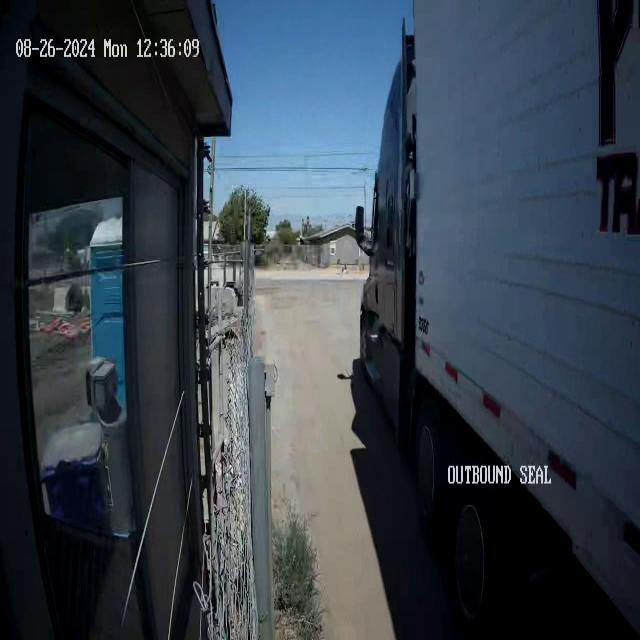TRUCK_CONTAINER: (355, 1, 639, 635)
